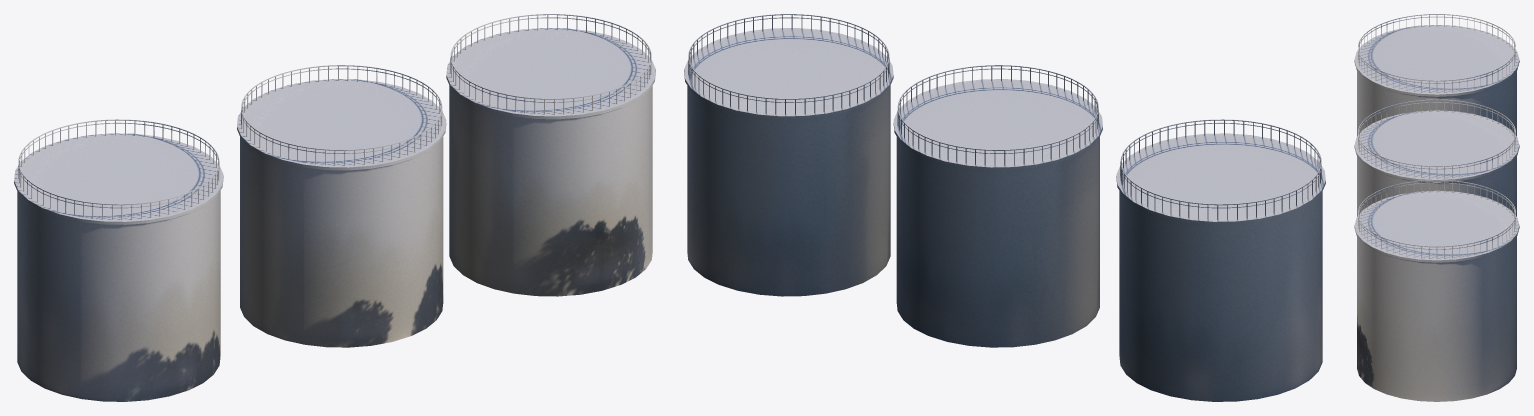
The model's file is 蓄水罐.269a7f68.glb.
3 views of the same model, side by side, from view 1: azimuth 30°, elevation 25°; view 2: azimuth 150°, elevation 25°; view 3: azimuth 270°, elevation 25° (orthographic). The views are drawn at different scales.
Visible parts, largest first — view 1: sc2010, sc2015, sc2006, sc2012, sc2017, sc2007, sc2009, sc2014, sc2005, sc2011, sc2003, sc2016 (+3 smaller); view 2: sc2010, sc2015, sc2006, sc2012, sc2017, sc2007, sc2009, sc2014, sc2005, sc2011, sc2003, sc2016 (+3 smaller); view 3: sc2015, sc2017, sc2007, sc2012, sc2006, sc2010, sc2005, sc2014, sc2009, sc2003, sc2016, sc2011 (+3 smaller).
Part boxes in pixels (<box>): sc2010: <box>240,137,443,347</box>; sc2015: <box>449,85,652,296</box>; sc2006: <box>17,191,220,401</box>; sc2012: <box>237,79,446,170</box>; sc2017: <box>446,28,655,119</box>; sc2007: <box>14,133,223,224</box>; sc2009: <box>241,66,442,165</box>; sc2014: <box>450,15,651,114</box>; sc2005: <box>18,120,219,219</box>; sc2011: <box>241,65,442,150</box>; sc2003: <box>18,119,219,205</box>; sc2016: <box>450,14,651,99</box>; sc2010: <box>896,137,1099,347</box>; sc2015: <box>687,85,890,296</box>; sc2006: <box>1119,191,1322,401</box>; sc2012: <box>893,79,1102,170</box>; sc2017: <box>684,28,893,119</box>; sc2007: <box>1116,133,1325,224</box>; sc2009: <box>897,66,1098,165</box>; sc2014: <box>688,15,889,114</box>; sc2005: <box>1120,120,1321,219</box>; sc2011: <box>897,65,1098,150</box>; sc2003: <box>1120,119,1321,205</box>; sc2016: <box>688,14,889,99</box>; sc2015: <box>1357,236,1516,401</box>; sc2017: <box>1354,190,1519,262</box>; sc2007: <box>1354,25,1519,96</box>; sc2012: <box>1354,110,1519,182</box>; sc2006: <box>1357,71,1516,136</box>; sc2010: <box>1357,156,1516,216</box>; sc2005: <box>1358,15,1515,92</box>; sc2014: <box>1358,181,1515,258</box>; sc2009: <box>1358,100,1515,178</box>; sc2003: <box>1358,14,1515,81</box>; sc2016: <box>1358,179,1515,247</box>; sc2011: <box>1358,99,1515,166</box>.
Bounding box in the file's own units: 43.22 × 13.25 × 12.8.
15 materials, 15 textured.
